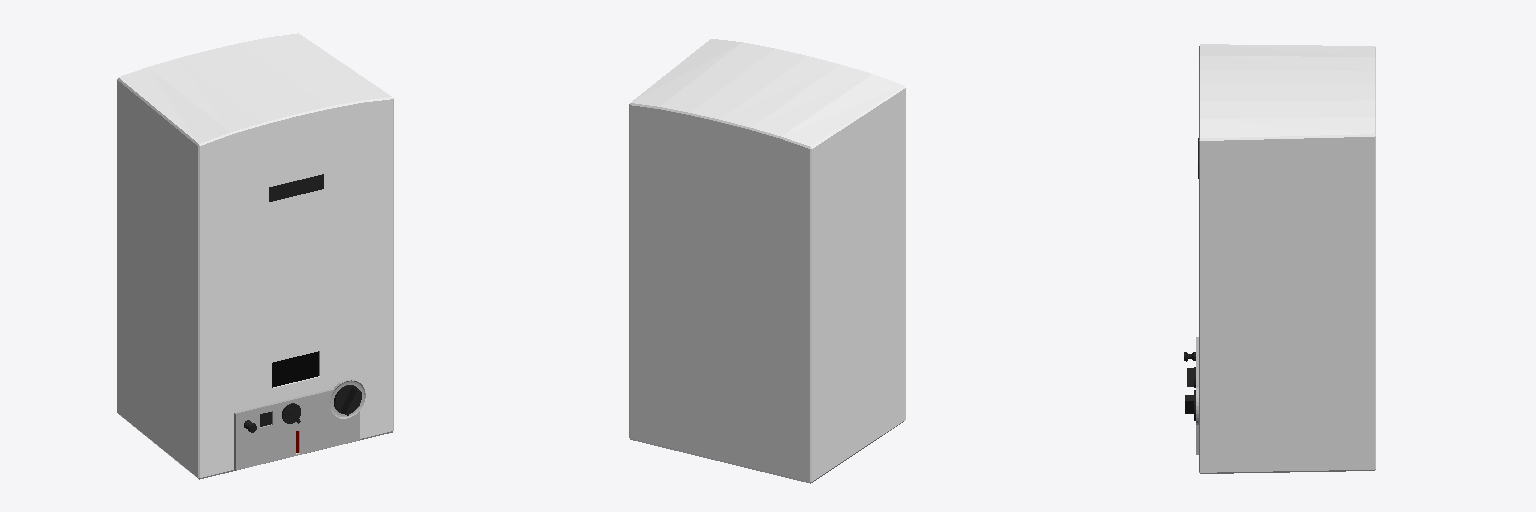
The model's file is geezer.obj.
The picture shows the model from 3 angles: view 1: azimuth 30°, elevation 25°; view 2: azimuth 150°, elevation 25°; view 3: azimuth 270°, elevation 25°; orthographic projection.
Visible parts, largest first — view 1: Cube, Cube.001, Cube.002, Cube.003; view 2: Cube; view 3: Cube.
Part boxes in pixels (left/top/right/bottom): Cube: left=117, top=33, right=393, bottom=479; Cube.001: left=234, top=379, right=365, bottom=470; Cube.002: left=269, top=174, right=323, bottom=201; Cube.003: left=334, top=385, right=361, bottom=415; Cube: left=629, top=39, right=905, bottom=483; Cube: left=1199, top=44, right=1375, bottom=473.
Bounding box in the file's own units: 40.49 × 67.63 × 34.47.